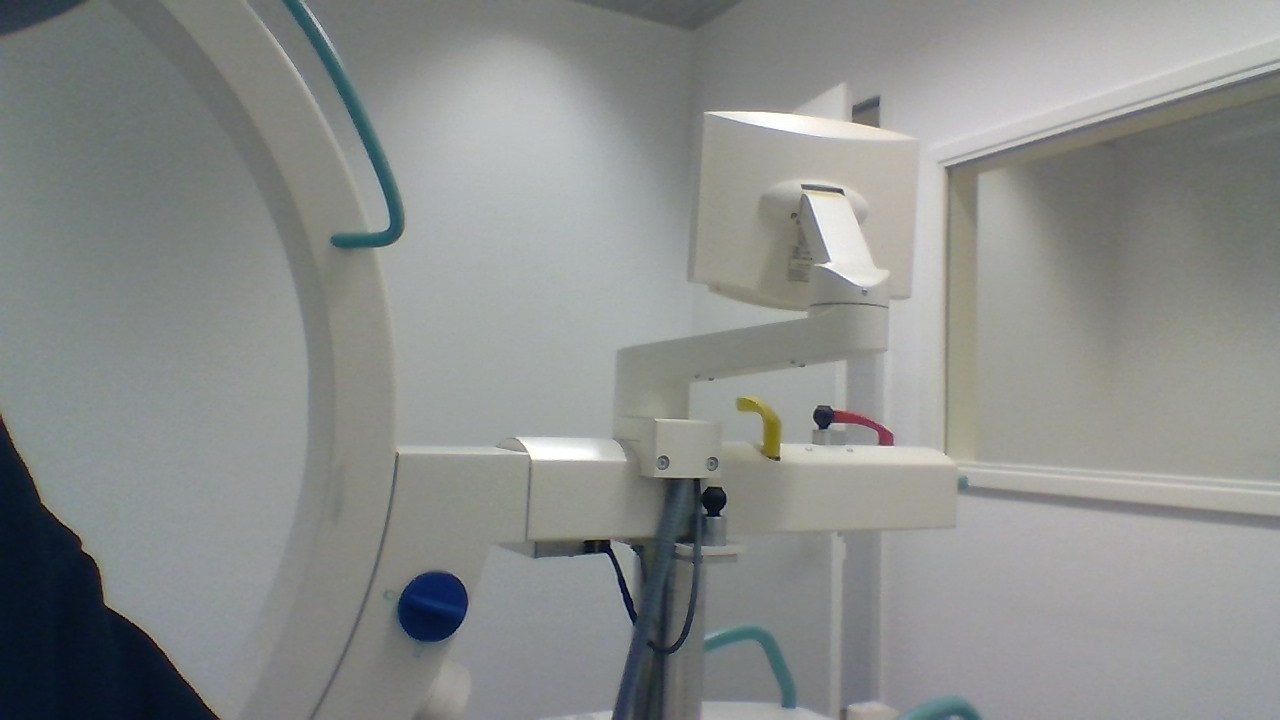carmBACK: (844, 699, 903, 718)
carmLOCK: (395, 569, 471, 646)
carmSCREEN: (685, 109, 922, 309)
